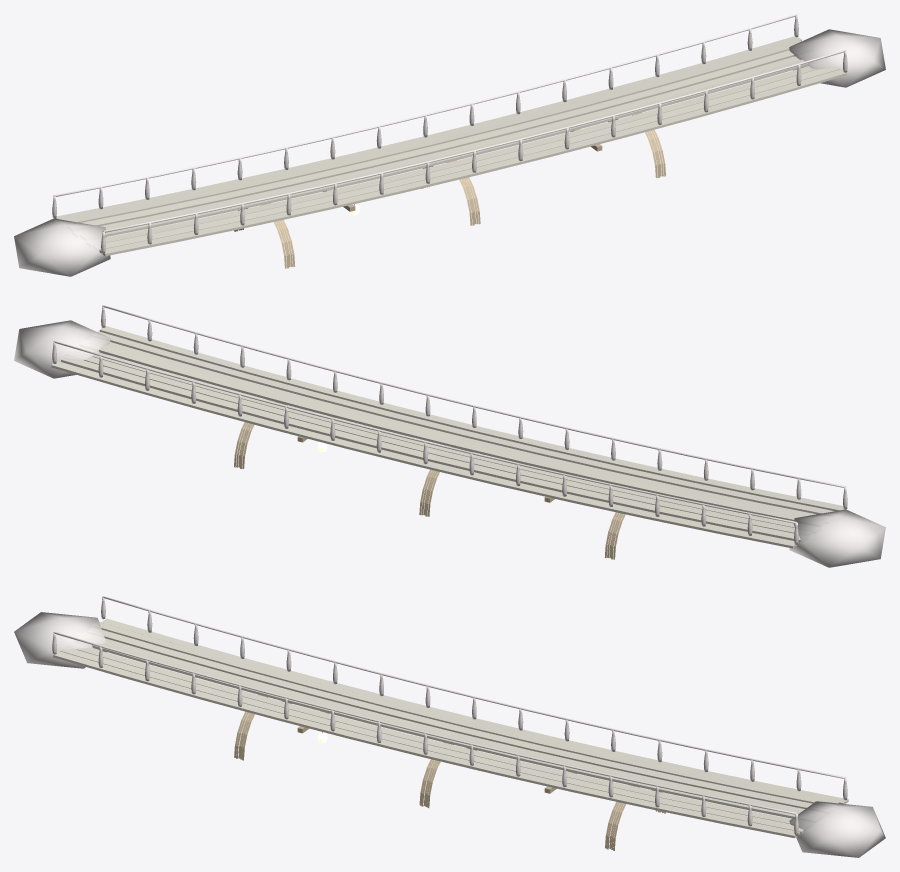
Rendered from lib_cau_van.lod.glb.
3 views of the same model, one above another, from view 1: azimuth 30°, elevation 25°; view 2: azimuth 150°, elevation 25°; view 3: azimuth 330°, elevation 25° (orthographic).
Parts seen in each view (by area): view 1: cau_van_san, cau_van_lancan; view 2: cau_van_san, cau_van_lancan; view 3: cau_van_san, cau_van_lancan.
Part boxes in pixels (<box>): cau_van_san: <box>14,29,885,276</box>; cau_van_lancan: <box>52,14,847,253</box>; cau_van_san: <box>14,320,885,567</box>; cau_van_lancan: <box>52,305,847,544</box>; cau_van_san: <box>14,612,885,857</box>; cau_van_lancan: <box>52,596,847,835</box>.
Bounding box in the file's own units: 46.45 × 4.32 × 4.9.
3 materials, 3 textured.
